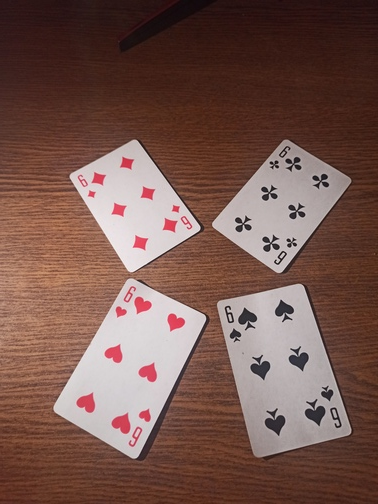sixclubs: (212, 136, 351, 274)
sixdiamonds: (71, 139, 201, 272)
sixhearts: (55, 278, 207, 457)
sixspades: (217, 284, 352, 450)
